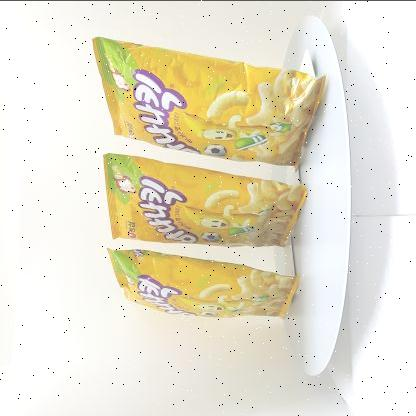Others: (87, 26, 341, 326)
